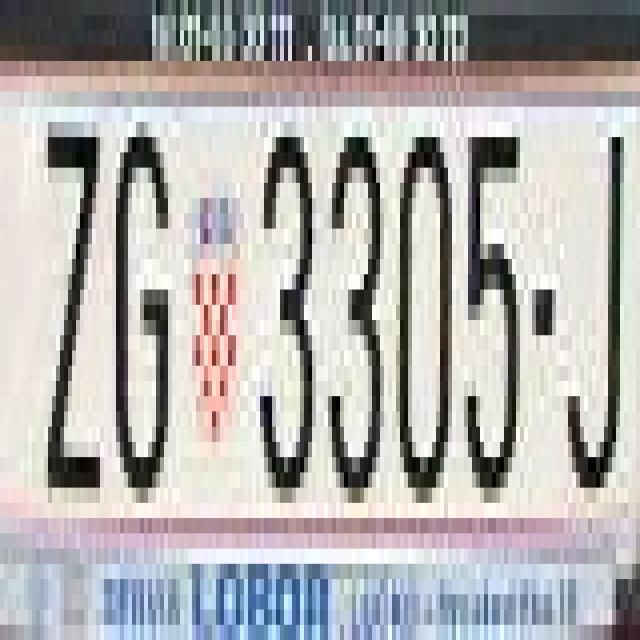0: (400, 91, 452, 503)
3: (324, 91, 384, 488), (260, 91, 312, 503)
5: (460, 106, 520, 488)
G: (112, 91, 180, 503)
Z: (44, 91, 104, 488)
